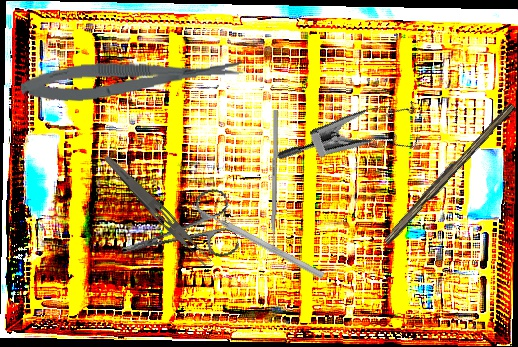Dressing Forceps: (99, 153, 215, 269)
Iris Scissors: (113, 185, 241, 282)
Micro Scissor: (19, 53, 245, 106)
Pusher: (190, 201, 326, 281), (270, 109, 279, 264)
Scalpel Handle: (380, 98, 517, 248)
Speculum: (275, 77, 434, 212)
